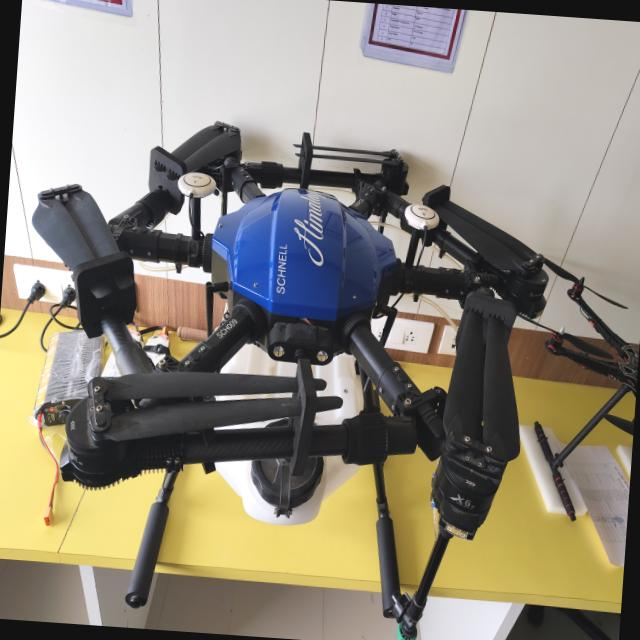agriculturedrone: (0, 97, 603, 640)
